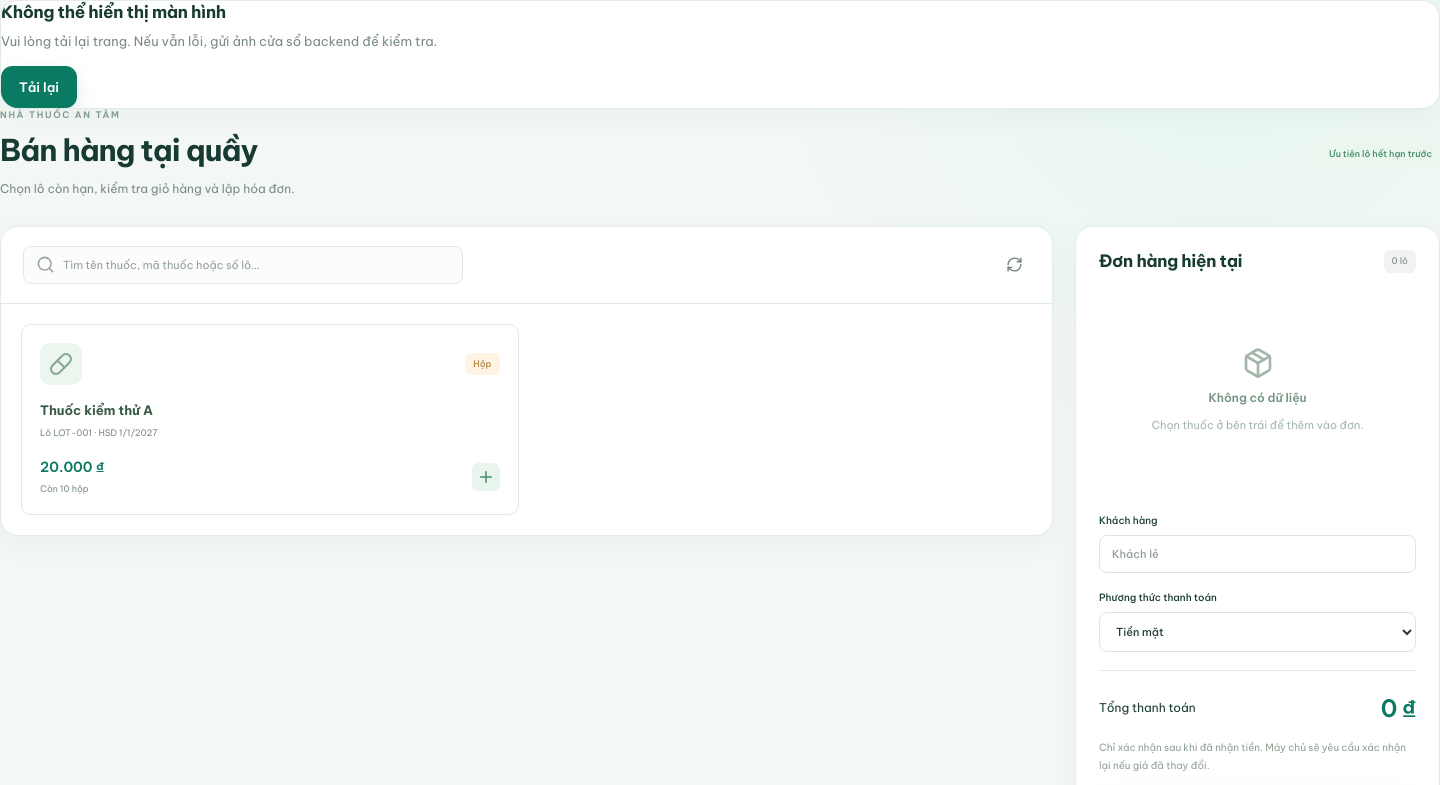
POS adds a lot and submits captured price
The width and height of the screenshot is (1440, 785).
What coordinates should you click on to do the following:
click the button "Thuốc kiểm thử A"
I would click on:
 (61, 364)
Its box is [21,324,518,516].
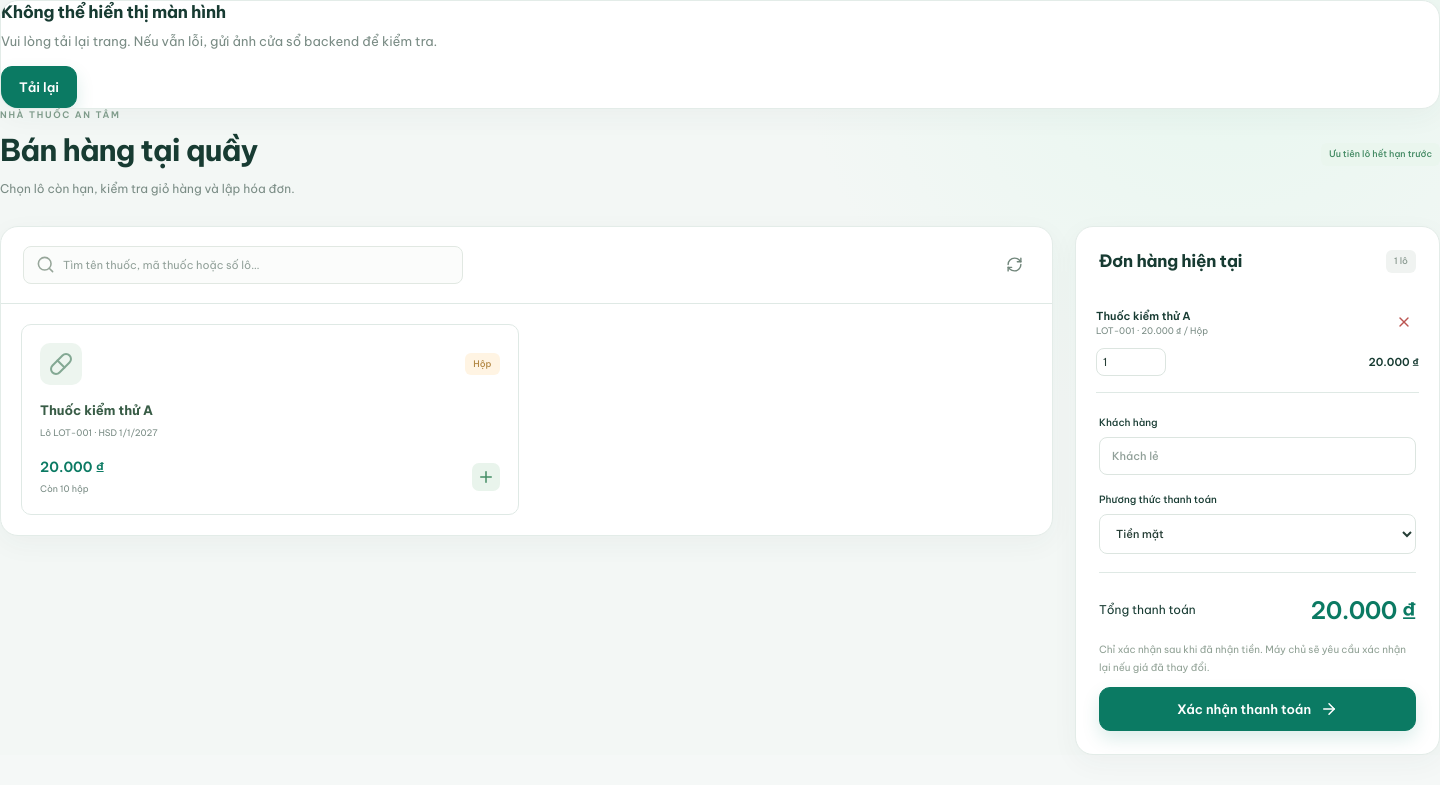
What coordinates should you click on to do the following:
click the button "Xác nhận thanh toán"
I would click on:
 (1258, 709)
Its box is [1099,687,1416,731].
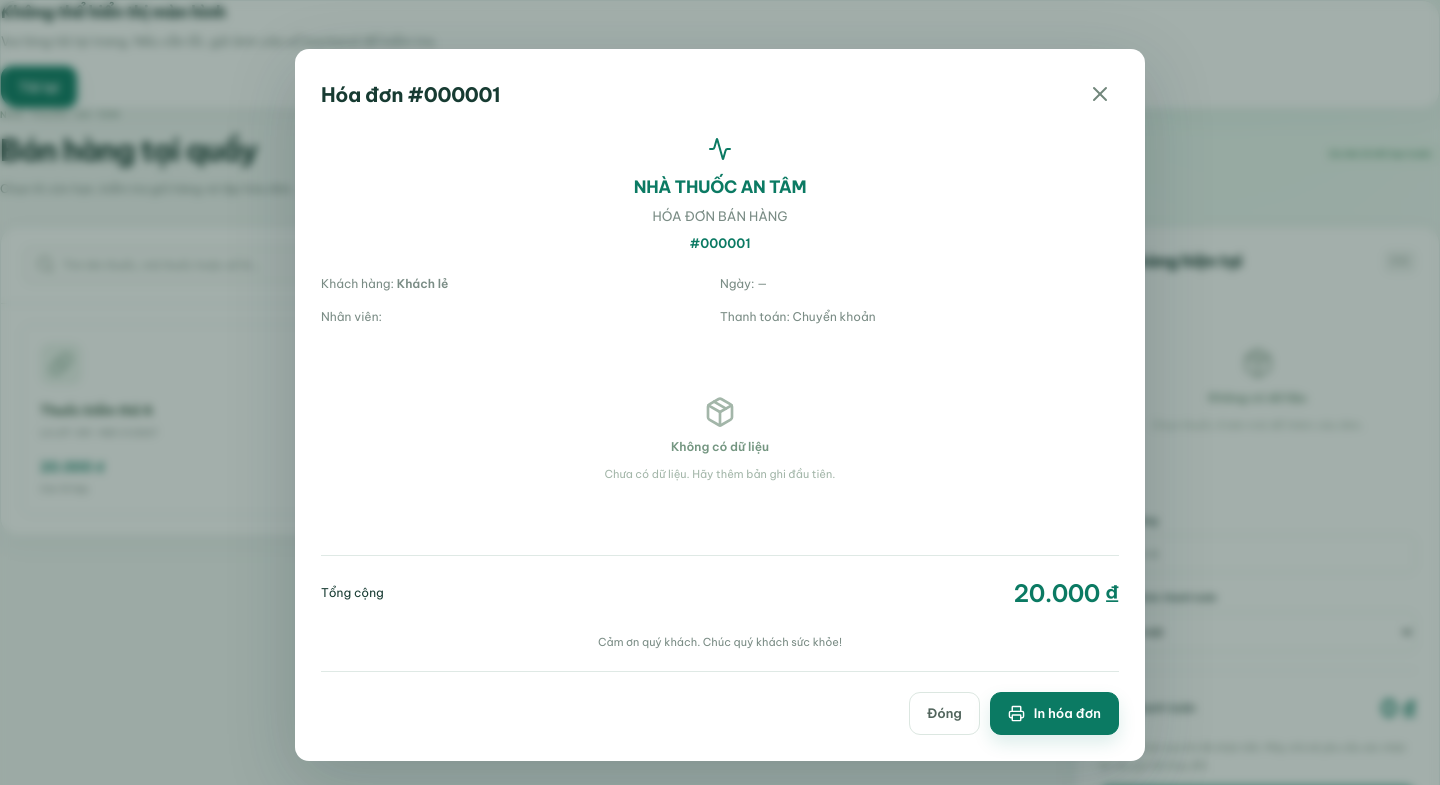
expect the dialog is shown: met, box [295,49,1145,761]
